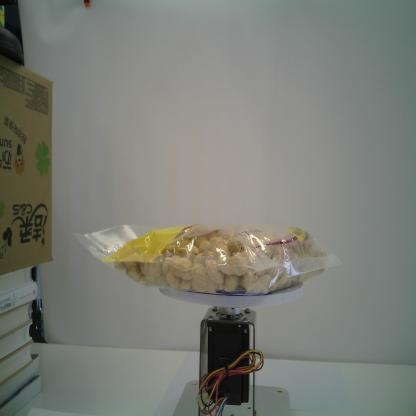Dried Food: (74, 218, 346, 303)
